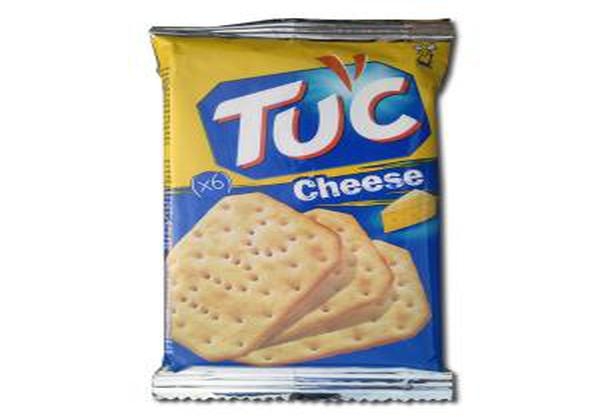crackers tuc: (173, 35, 438, 374)
